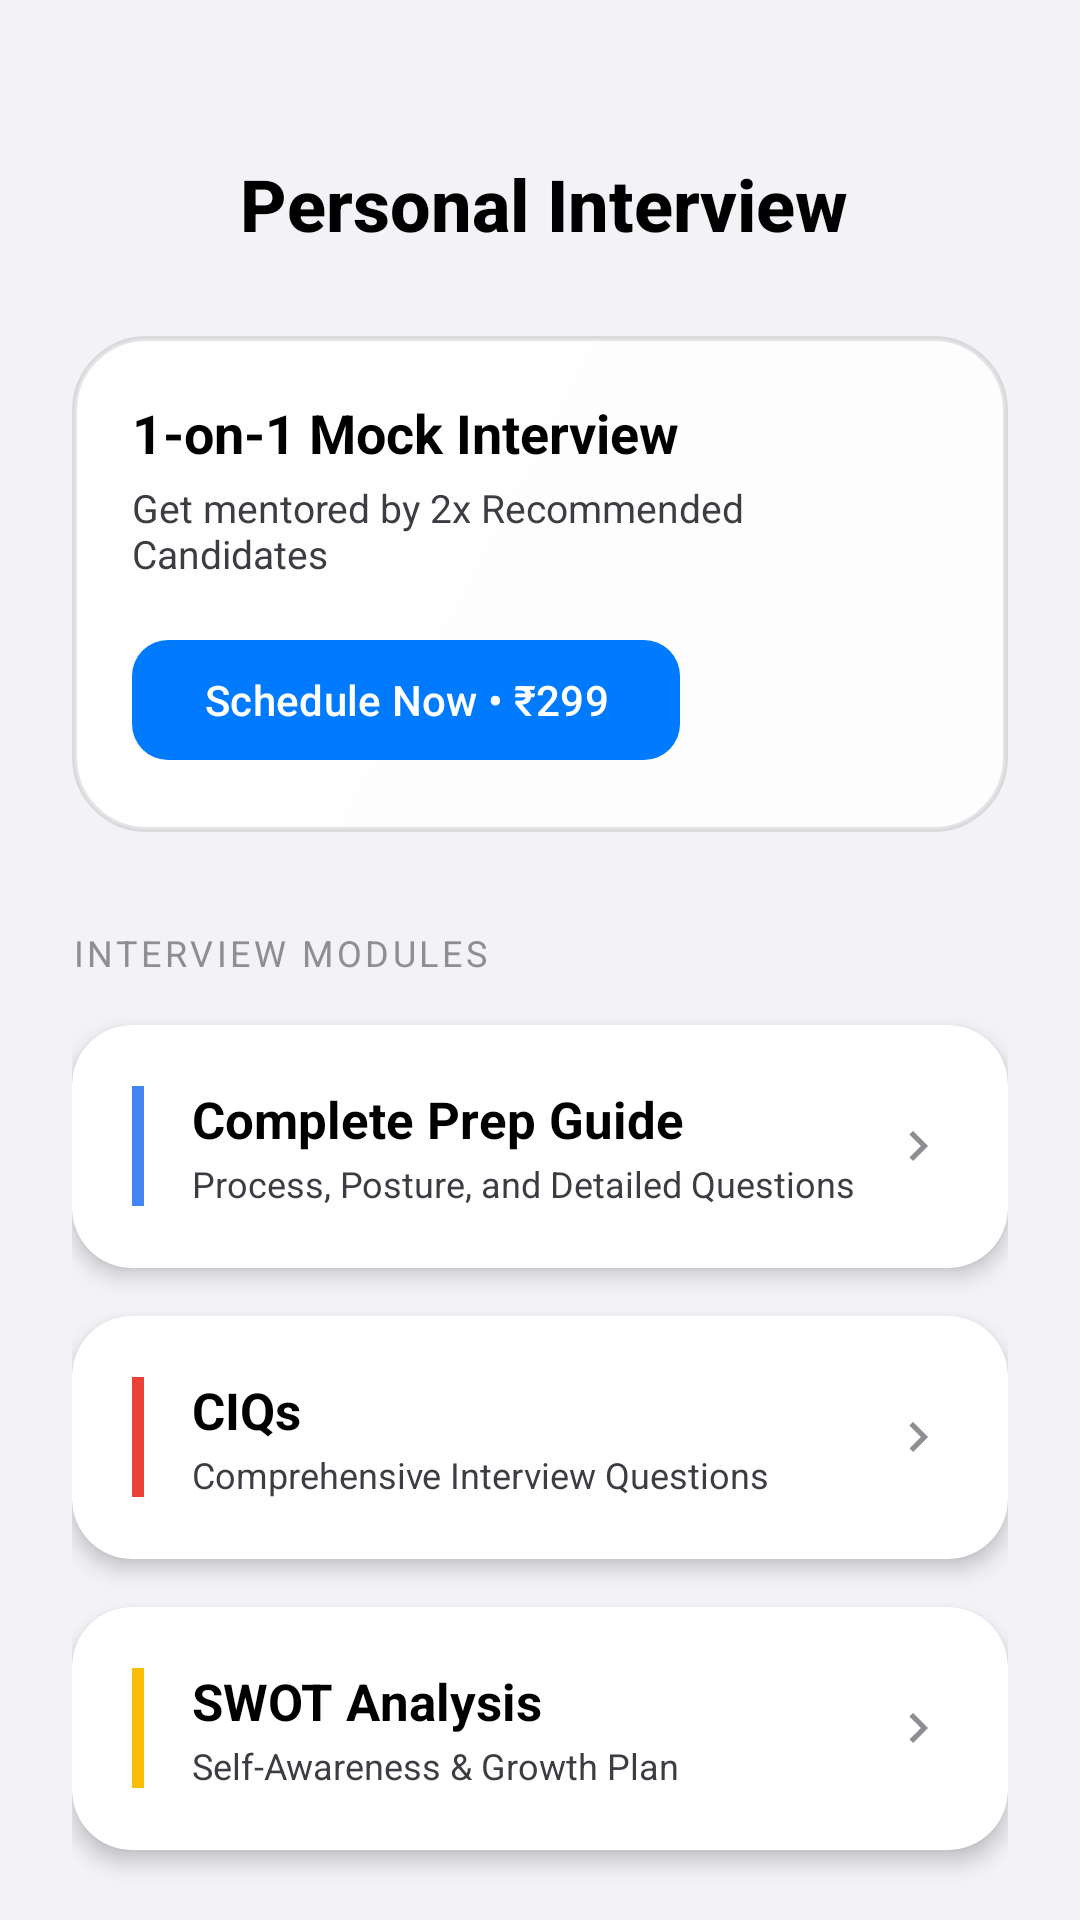

Where icons sit on this 1080w x 1920h app screen, as (x1, y1, x2, y2):
Open: (909, 1131, 928, 1161), (909, 1422, 928, 1452), (909, 1713, 928, 1743)
